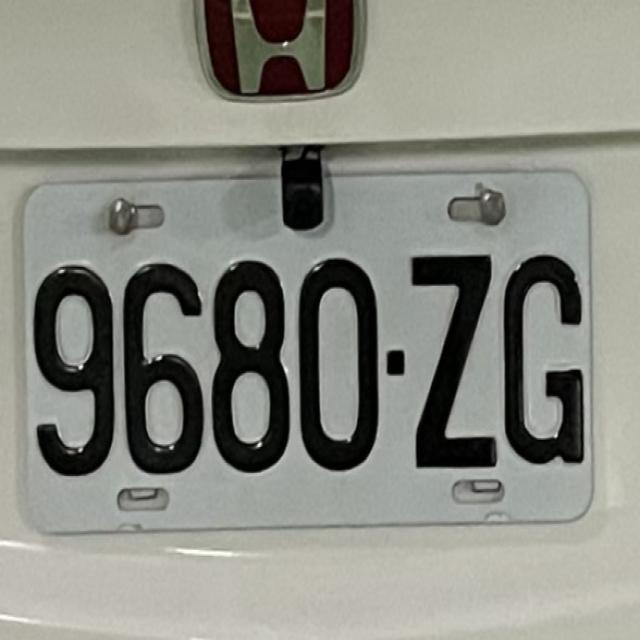license-plate: (21, 173, 602, 539)
